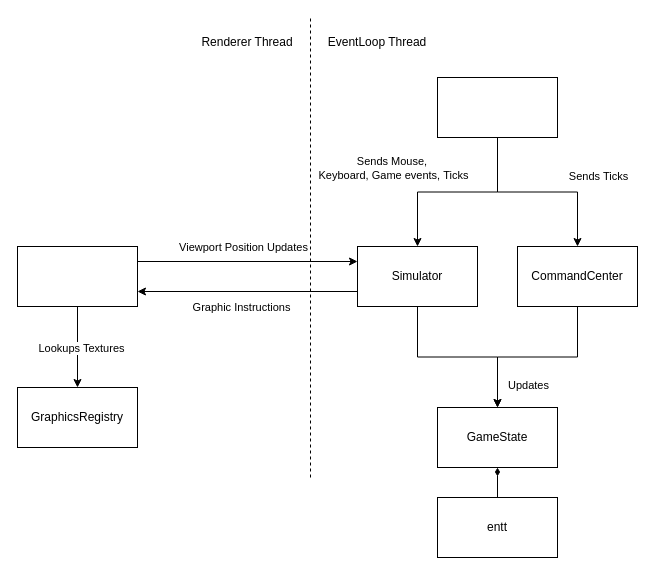
Some shapes in this 655 by 575 pixel diagram are drawn without their labels. Each missing label, with the box of its shape:
EventLoop: (436, 76, 558, 138)
Renderer: (16, 246, 138, 306)
